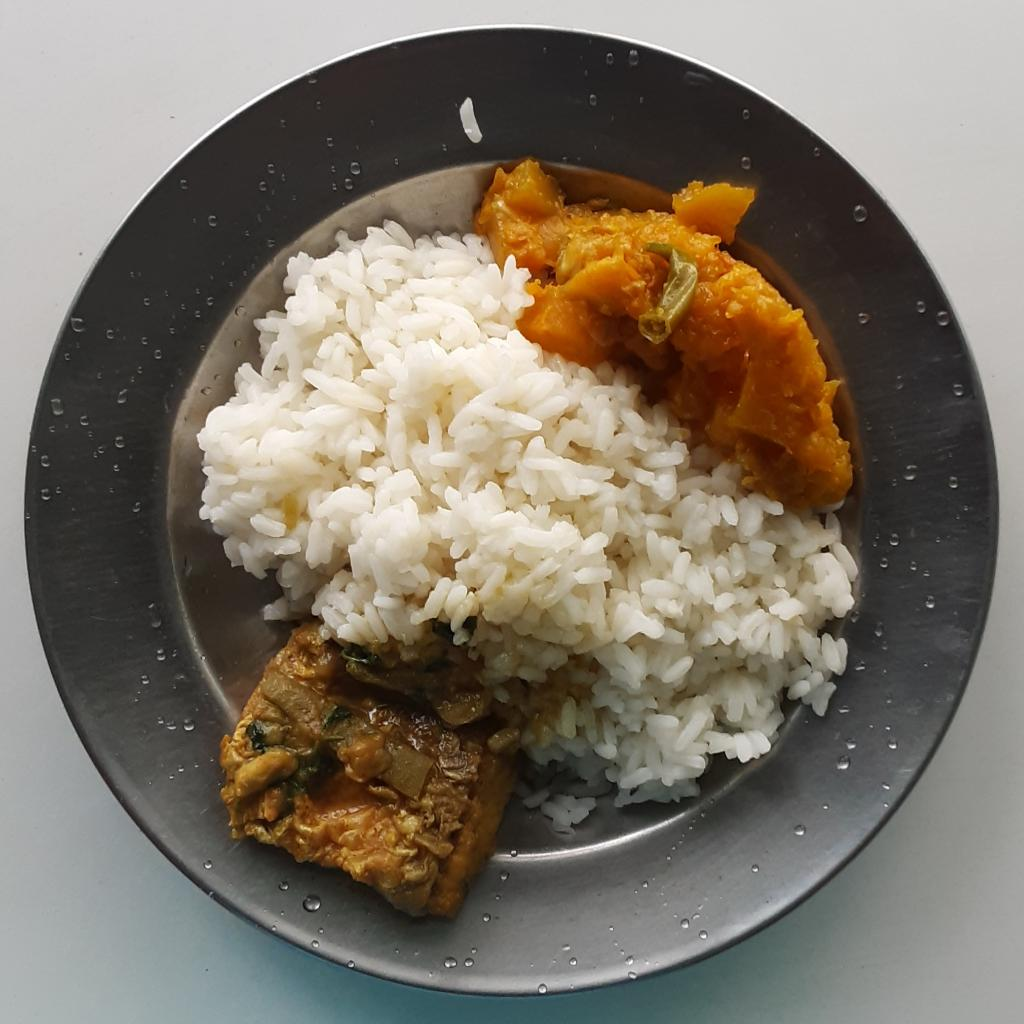fish: (220, 625, 516, 919)
kumra-vaji: (478, 158, 853, 512)
rice: (194, 219, 862, 828)
